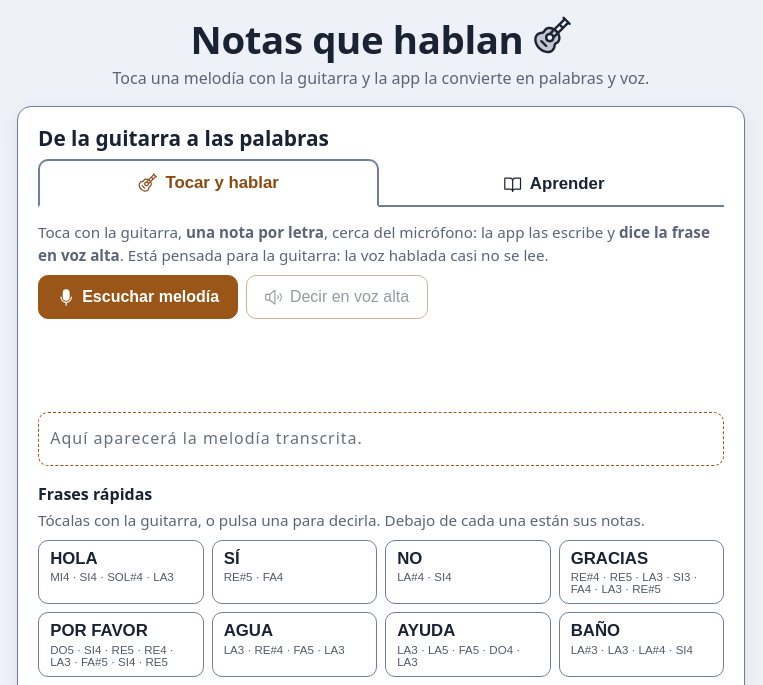
Scenario: App (integración) › monta el título y el panel de guitarra a palabras
Expected: the heading "Notas que hablan" is shown, [191,13,571,65]
Expected: the heading "De la guitarra a las palabras" is shown, [38,124,329,152]
Click the tab "Aprender".
click(554, 183)  # box [383,159,724,207]
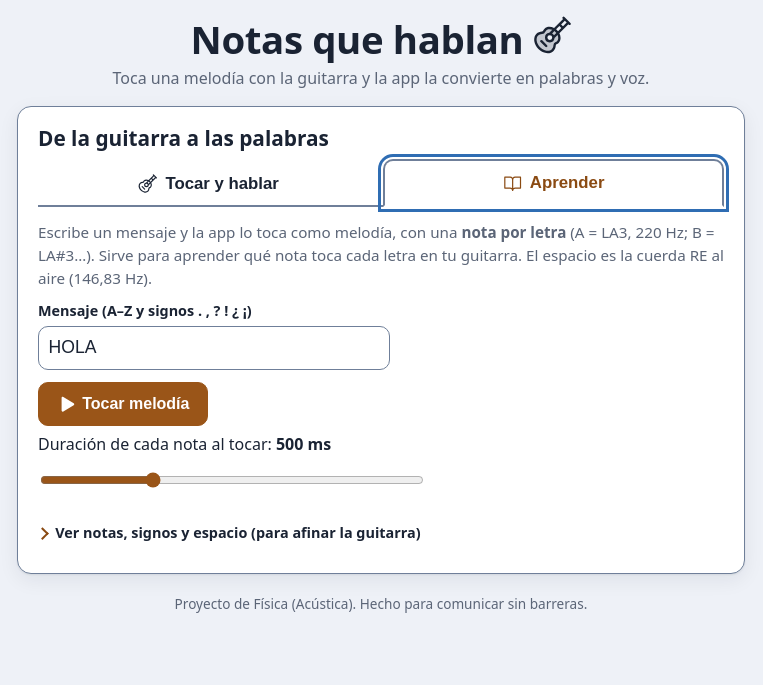
Now the button "Tocar melodía" is shown, box [38,382,208,426]
